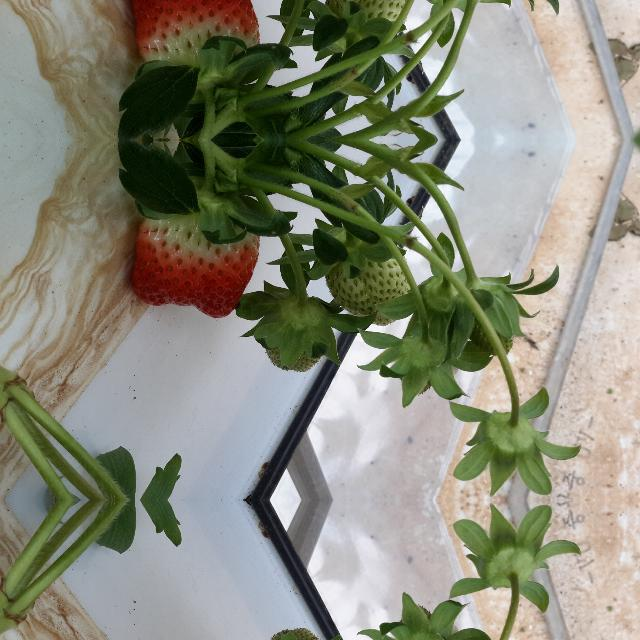Health_100: (130, 213, 258, 319), (129, 0, 258, 67)
Health_25: (316, 231, 412, 325), (315, 0, 412, 49)
